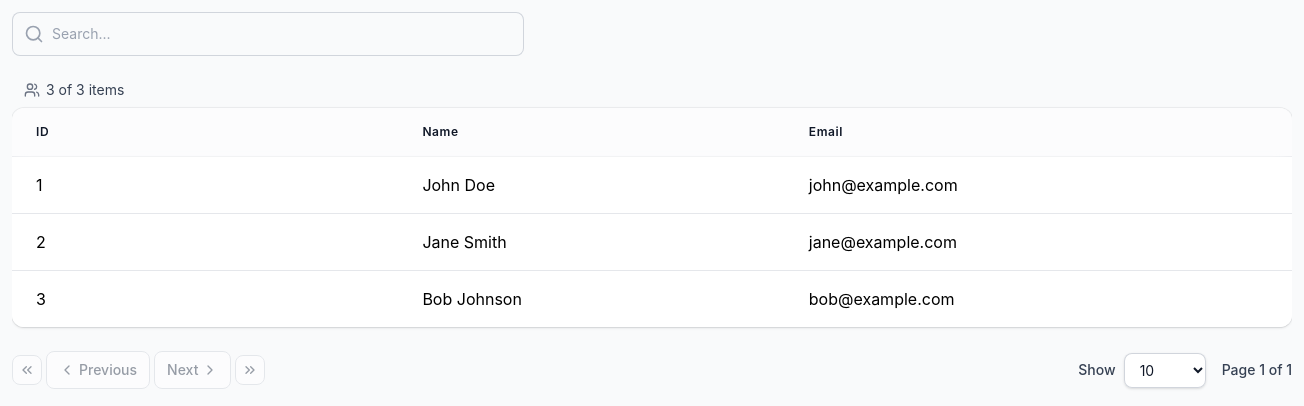
Test case: GenericDataTable › renders empty state when filtered data is empty
This screenshot has width=1304, height=406.
Type "nonexistent" into the field with placeholder "Search..." at (268, 34), box [12,12,524,56]
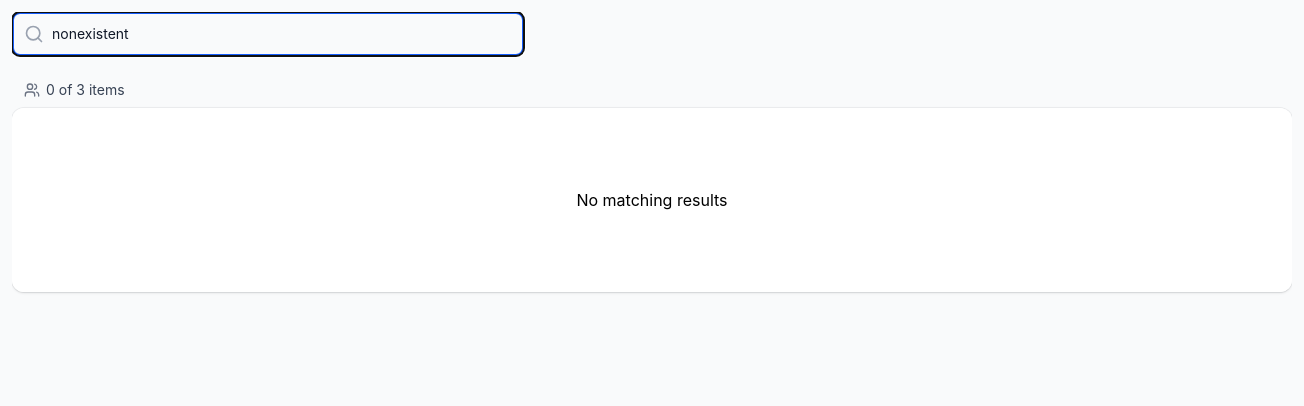
Check: the text "No matching results" is shown, box [576,190,728,210]
